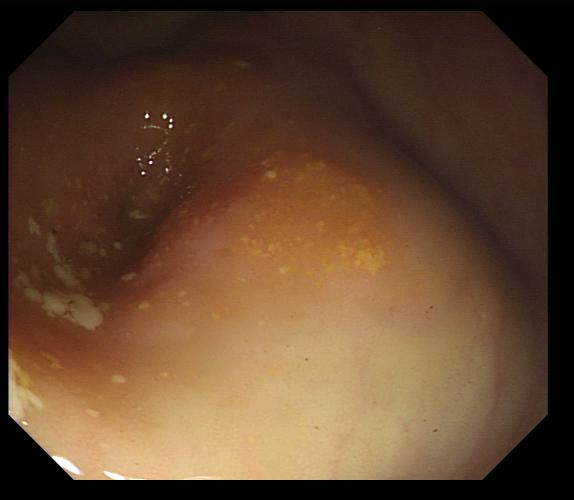polyp: (399, 146, 535, 343), (86, 53, 188, 119), (170, 21, 264, 59)
